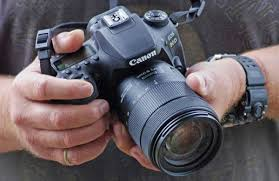camera: (49, 8, 223, 170)
